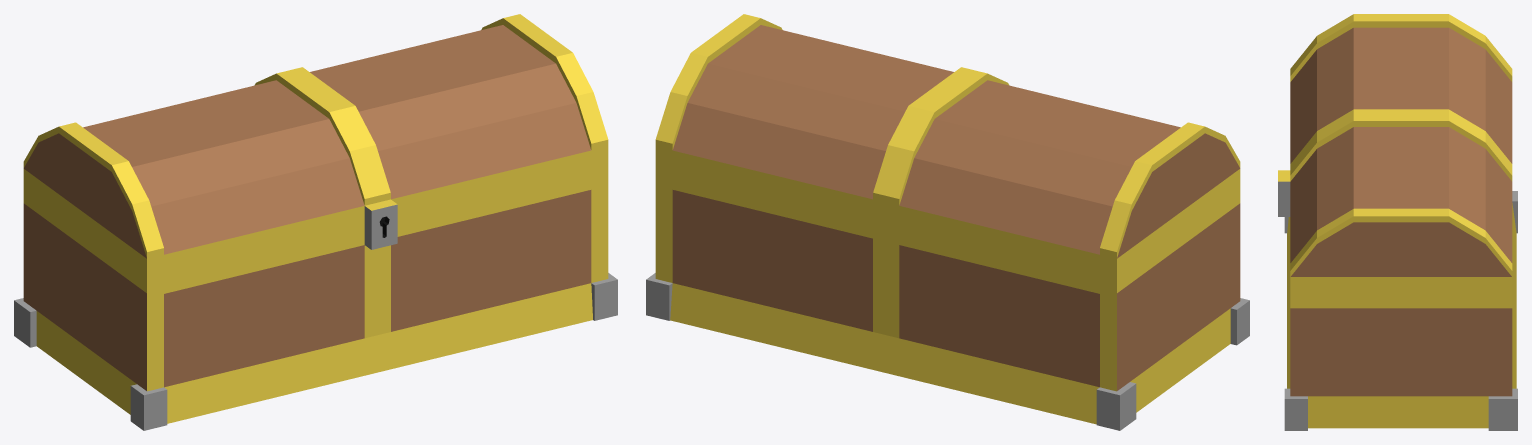
File: Chest.fbx
3 renders of one model, left to right at view 1: azimuth 30°, elevation 25°; view 2: azimuth 150°, elevation 25°; view 3: azimuth 270°, elevation 25°, orthographic. The views are drawn at different scales.
Parts seen in each view (by area): view 1: Chest; view 2: Chest; view 3: Chest.
Boxes of the visible parts, box(x1,y1,x2,y2) form: Chest: box(14, 14, 617, 430); Chest: box(646, 14, 1249, 430); Chest: box(1278, 14, 1517, 430).
Bounding box in the file's own units: 443 × 211 × 216.
